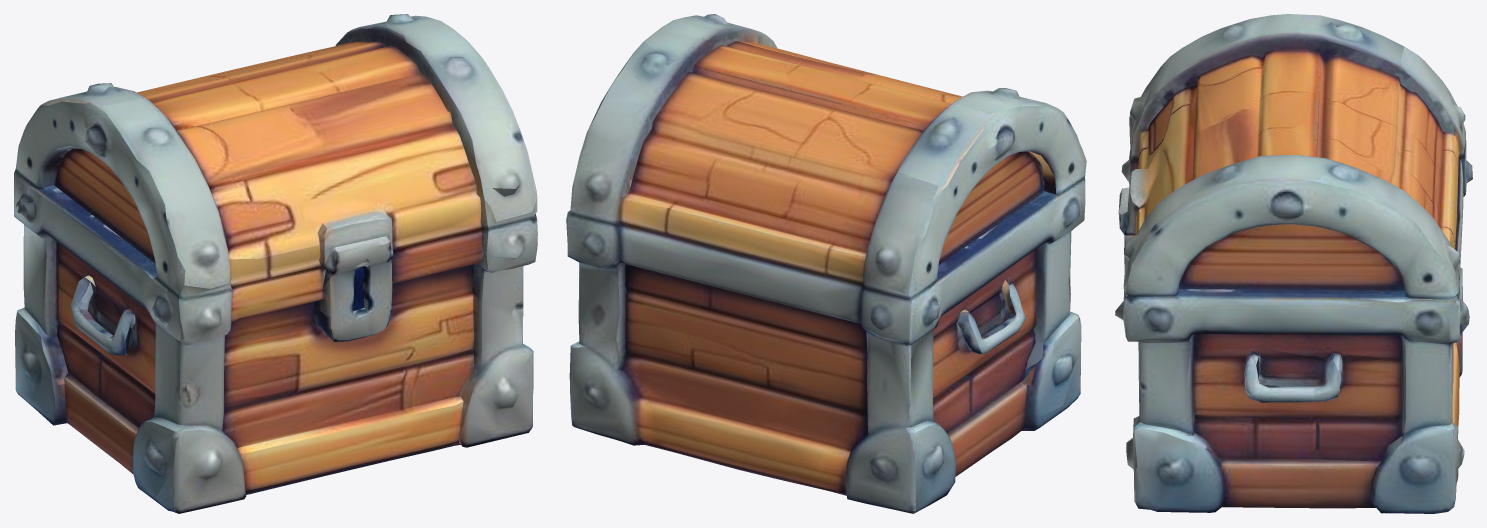
The model's file is field_chest.glb.
The picture shows the model from 3 angles, left to right: view 1: azimuth 30°, elevation 25°; view 2: azimuth 150°, elevation 25°; view 3: azimuth 270°, elevation 25°; orthographic projection. The views are drawn at different scales.
Parts seen in each view (by area): view 1: field_chest_s71; view 2: field_chest_s71; view 3: field_chest_s71.
Boxes of the visible parts, x1,y1,x2,y2 form: field_chest_s71: (14, 14, 537, 513); field_chest_s71: (566, 14, 1086, 513); field_chest_s71: (1115, 14, 1472, 513).
Bounding box in the file's own units: 1 × 0.9075 × 0.8601.
1 material, 1 textured.
